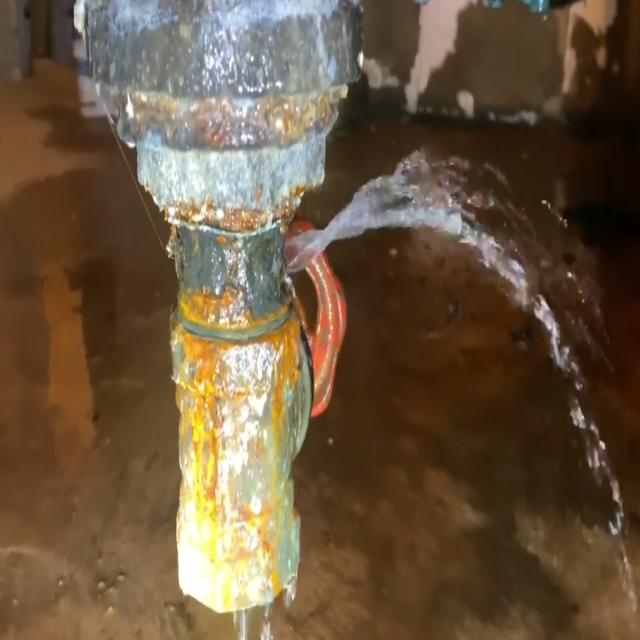leak: (284, 151, 569, 369)
